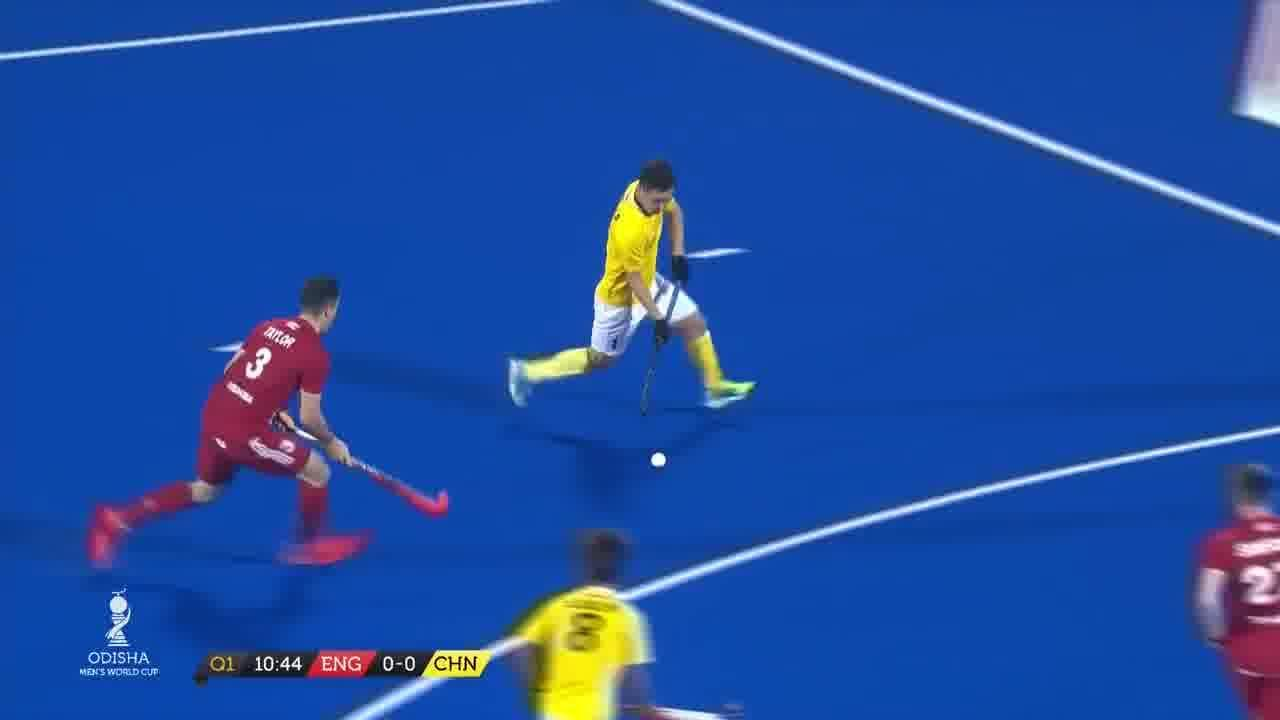ball: (632, 440, 678, 475)
